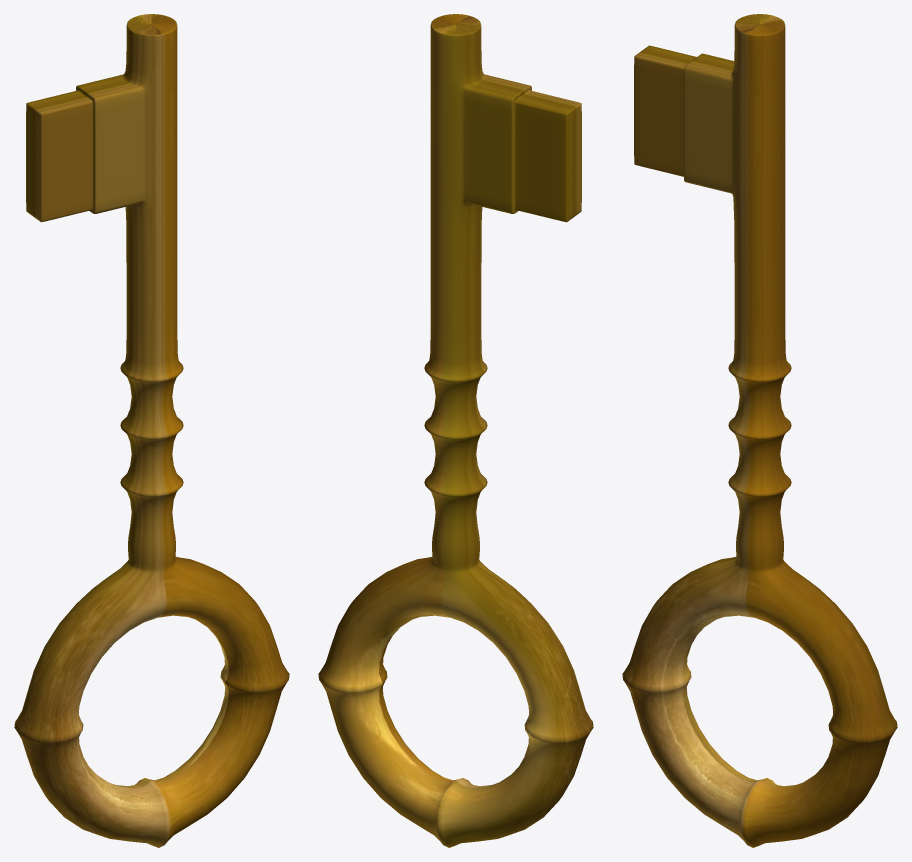
File: LLAVEFBX.fbx
The picture shows the model from 3 angles, left to right: view 1: azimuth 30°, elevation 25°; view 2: azimuth 150°, elevation 25°; view 3: azimuth 330°, elevation 25°; orthographic projection.
Visible parts, largest first — view 1: Key; view 2: Key; view 3: Key.
Part boxes in pixels (box(x1,y1,x2,y2)): Key: box(14, 14, 289, 847); Key: box(318, 14, 593, 847); Key: box(622, 14, 897, 847).
Size of the model in its own units: 8.71 by 25.69 by 2.04.
Materials: 1 (1 with a texture image).
